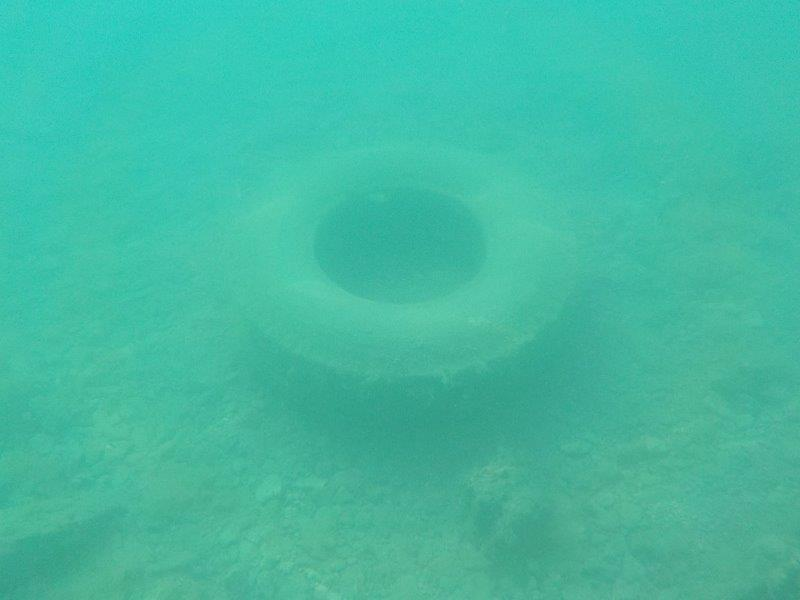tire: (224, 133, 592, 438)
